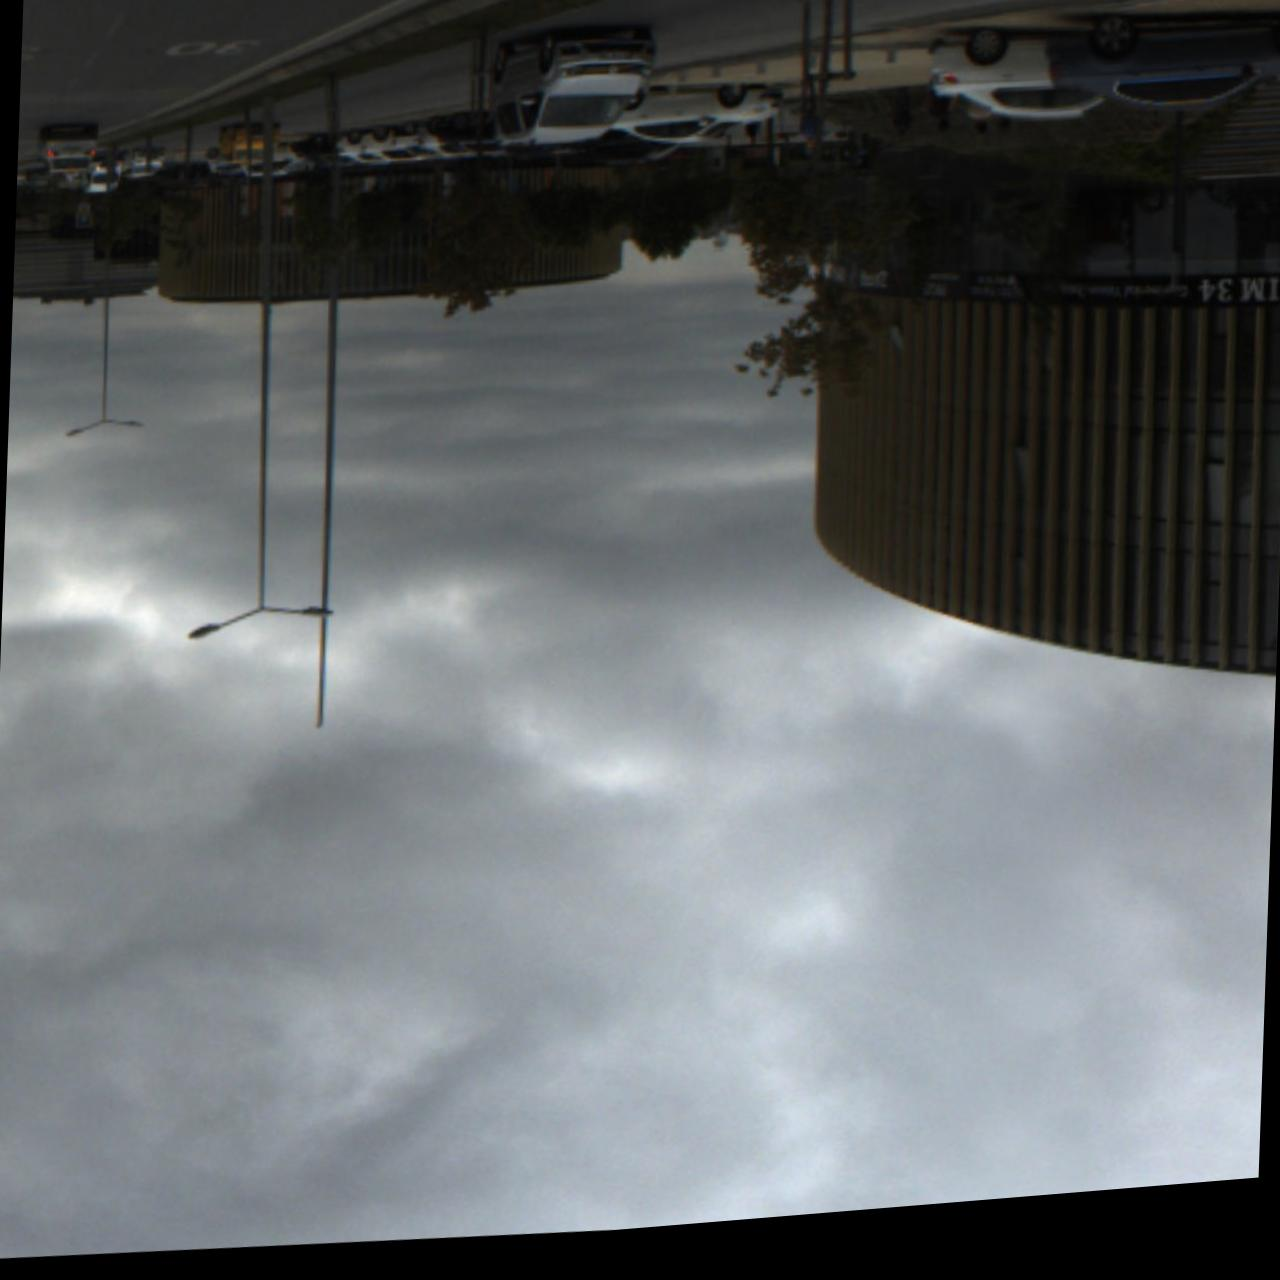SignStore: (1077, 295, 1280, 327)
